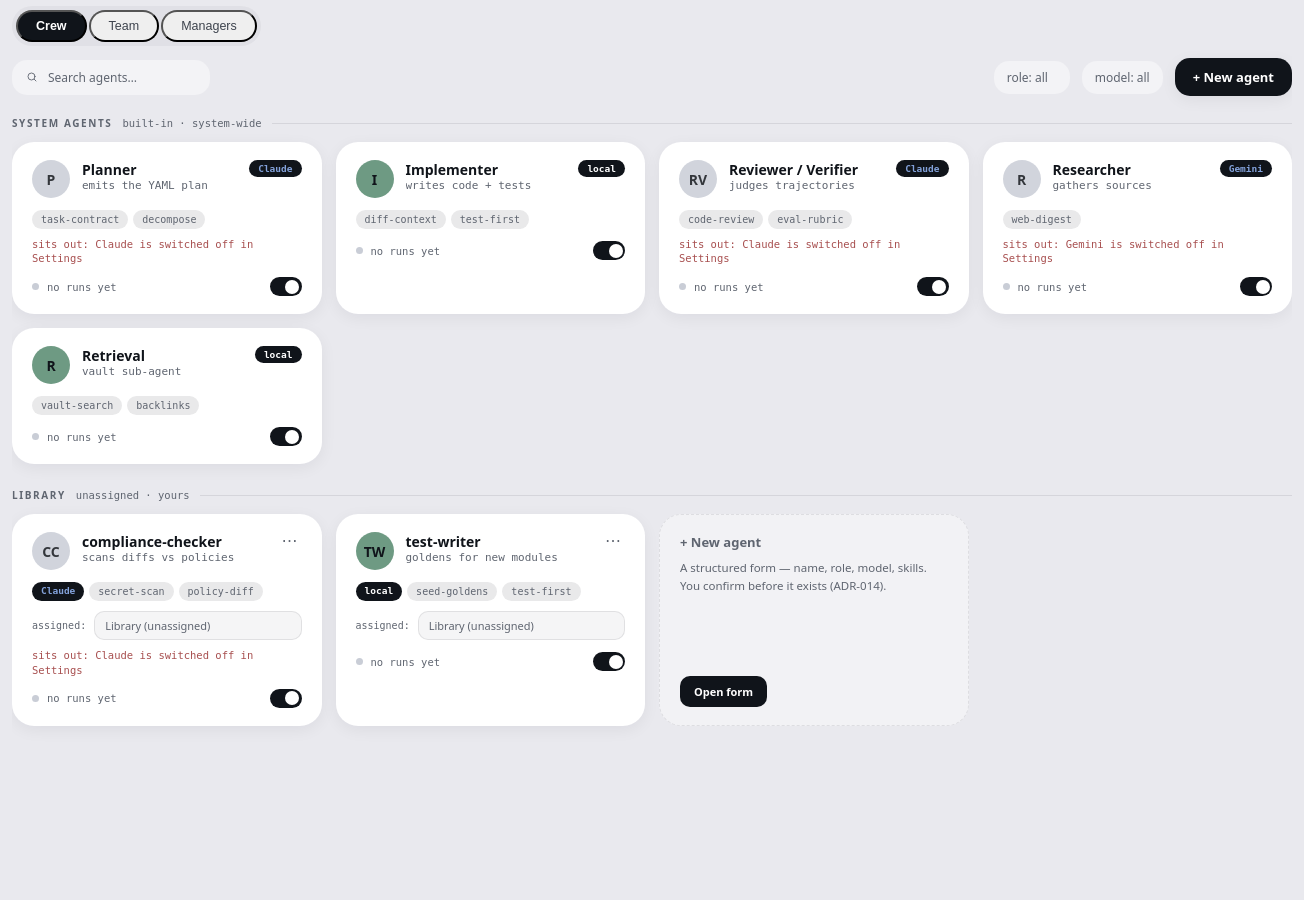
Test: Agents page tabs — crew first, nothing blocking it › the Team tab shows the launcher and hides the crew grid
Click the tab "Team" at coordinates (124, 26), box x1=89 y1=10 x2=159 y2=42
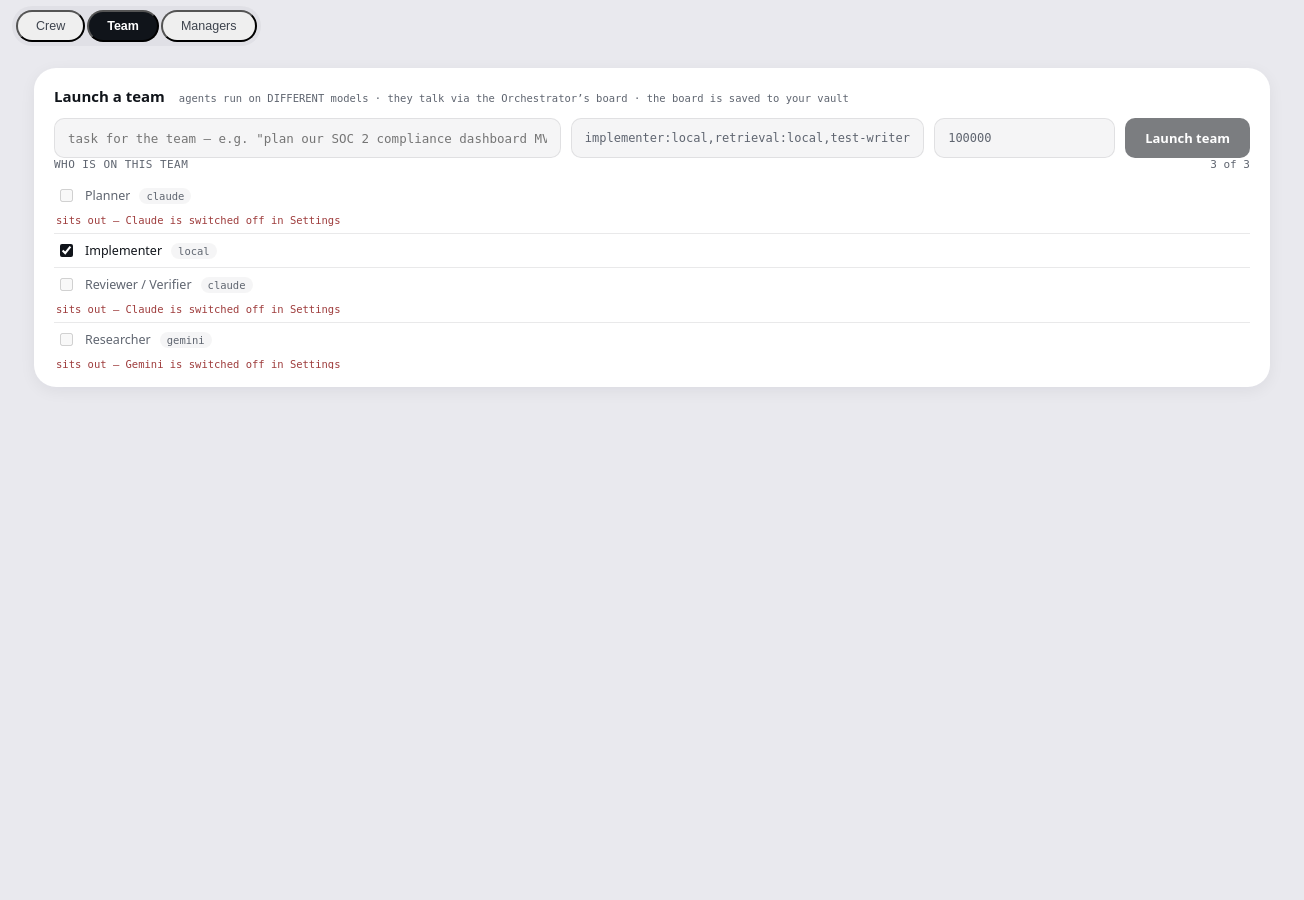
expect the field with placeholder "search agents" is not shown: met
expect the text "Launch a team" is shown: met, box x1=54 y1=86 x2=165 y2=106
